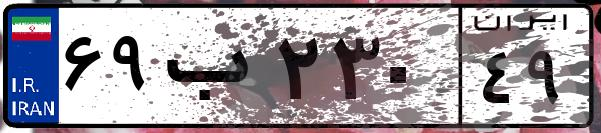0: (385, 28, 445, 110)
2: (270, 28, 330, 110)
3: (330, 28, 385, 110)
4: (475, 38, 525, 113)
6: (57, 26, 110, 100)
9: (525, 38, 570, 115), (110, 28, 158, 98)
ب: (158, 20, 270, 120)
